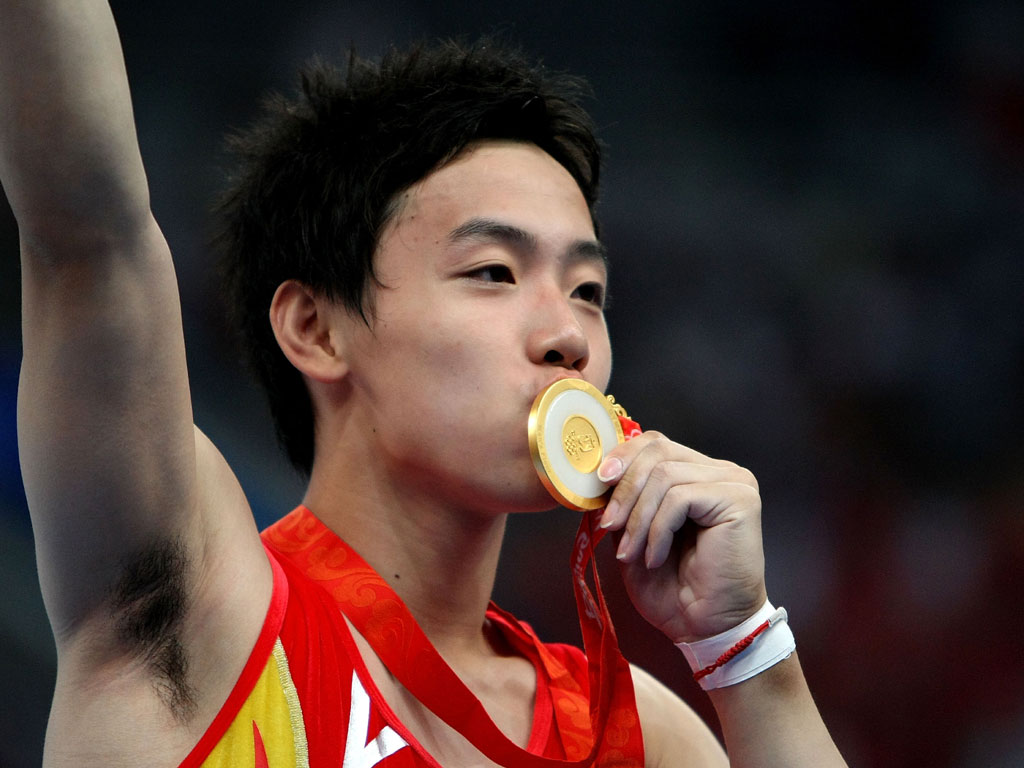face: (359, 143, 631, 499)
